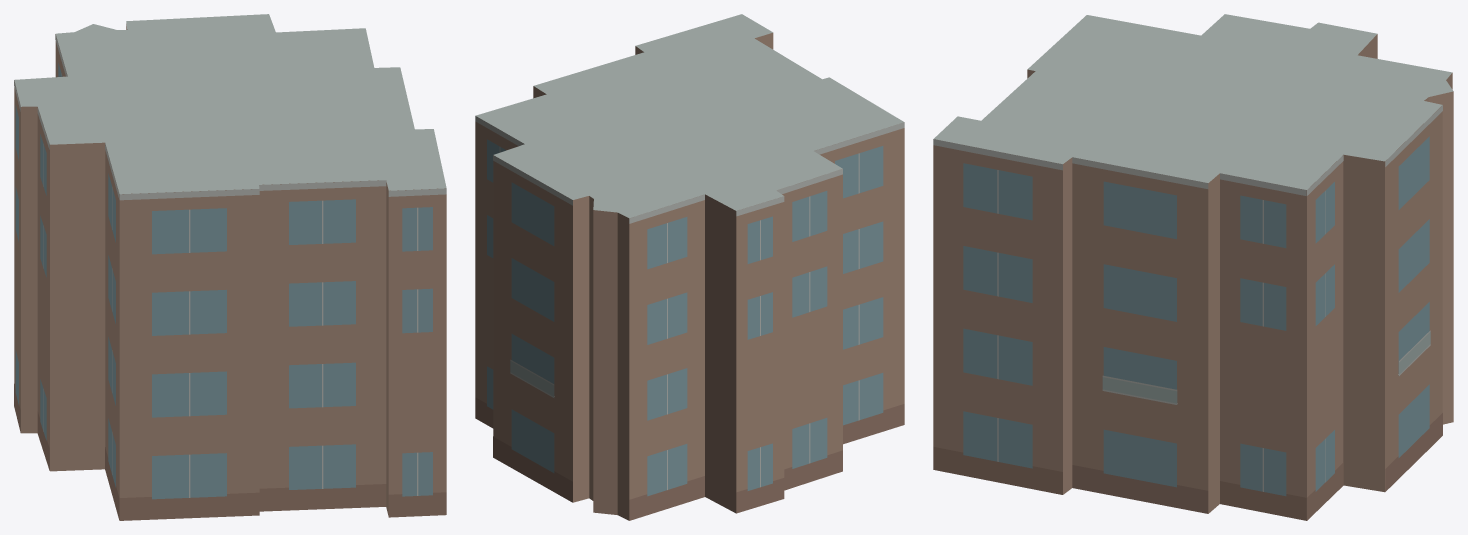
File: survey-upis-32490599.glb
3 renders of one model, left to right at view 1: azimuth 30°, elevation 25°; view 2: azimuth 150°, elevation 25°; view 3: azimuth 270°, elevation 25°, orthographic. The views are drawn at different scales.
Parts seen in each view (by area): view 1: survey-upis-32490599.tmp; view 2: survey-upis-32490599.tmp; view 3: survey-upis-32490599.tmp.
Boxes of the visible parts, x1,y1,x2,y2 form: survey-upis-32490599.tmp: [14, 14, 446, 520]; survey-upis-32490599.tmp: [475, 14, 904, 520]; survey-upis-32490599.tmp: [933, 14, 1453, 520].
Bounding box in the file's own units: 14.97 × 13.1 × 18.68.
